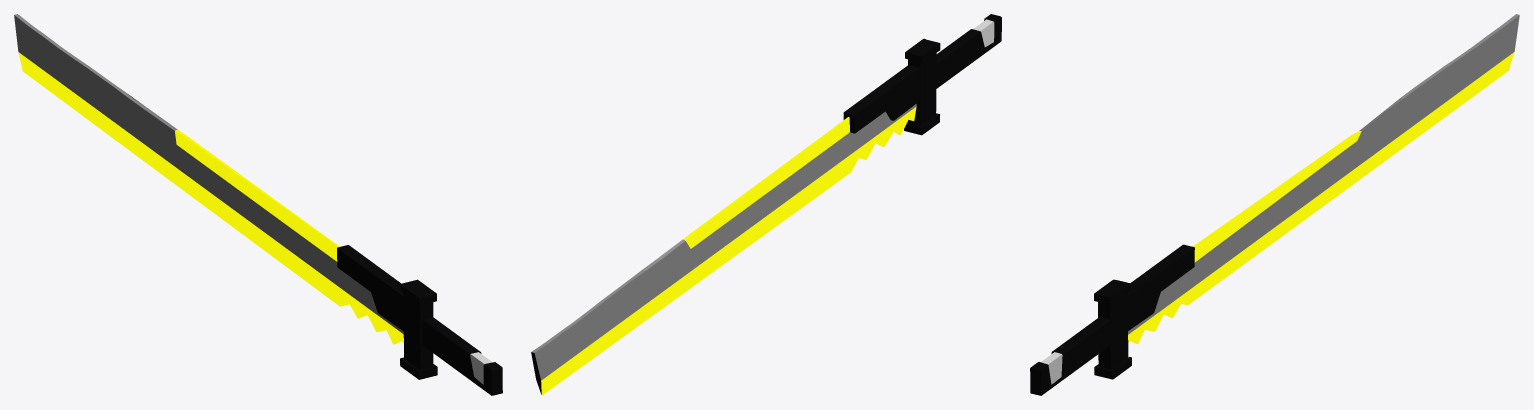
File: B(lade)O(f)B(abylon)_Export.fbx
3 views of the same model, side by side, from view 1: azimuth 30°, elevation 25°; view 2: azimuth 150°, elevation 25°; view 3: azimuth 330°, elevation 25° (orthographic). The views are drawn at different scales.
Parts seen in each view (by area): view 1: Blade; view 2: Blade; view 3: Blade.
Boxes of the visible parts, left/top/right/bottom form: Blade: left=14, top=14, right=502, bottom=395; Blade: left=531, top=14, right=1001, bottom=395; Blade: left=1030, top=14, right=1519, bottom=395.
Bounding box in the file's own units: 0.0362 × 0.1507 × 1.6.
